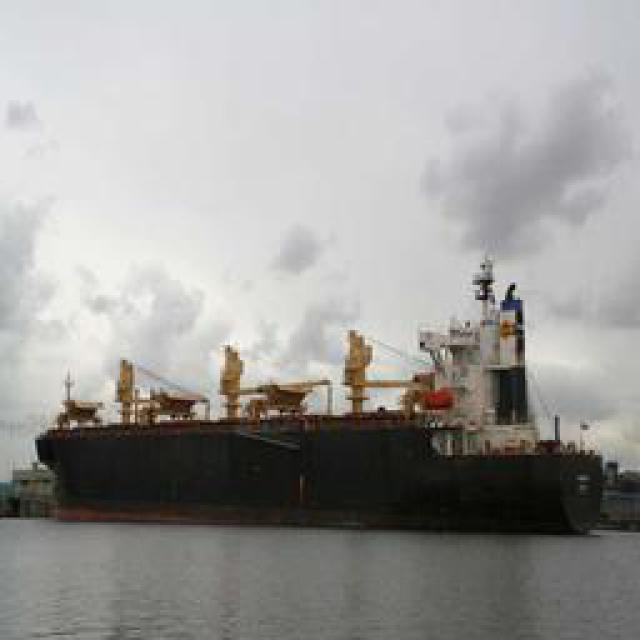Ship: (36, 225, 624, 533)
